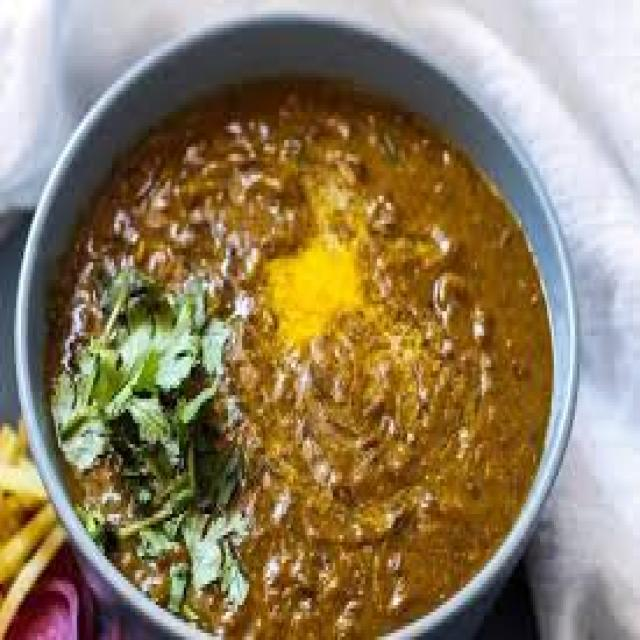dal_makhani: (38, 35, 565, 637)
